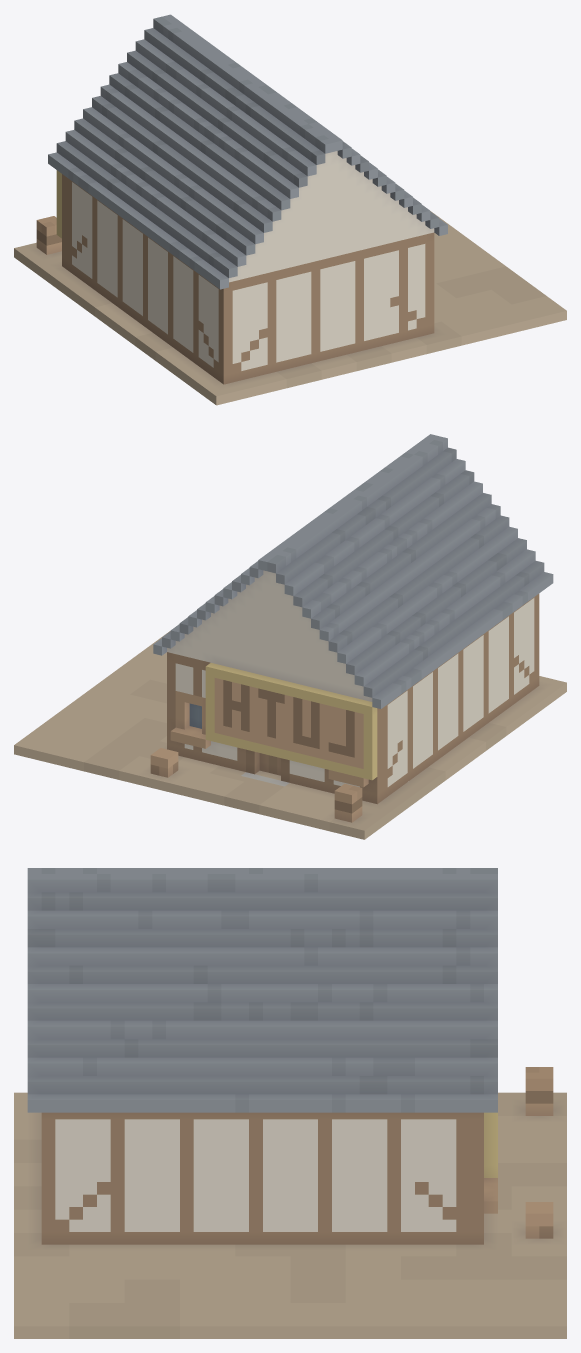
File: luthier.glb
3 renders of one model, top to bottom at view 1: azimuth 30°, elevation 25°; view 2: azimuth 150°, elevation 25°; view 3: azimuth 270°, elevation 25°, orthographic. The views are drawn at different scales.
Visible parts, largest first — view 1: luthier; view 2: luthier; view 3: luthier.
Boxes of the visible parts, left/top/right/bottom form: luthier: left=14, top=14, right=566, bottom=405; luthier: left=14, top=434, right=566, bottom=839; luthier: left=14, top=868, right=566, bottom=1338.
Bounding box in the file's own units: 5 × 3.12 × 5.
